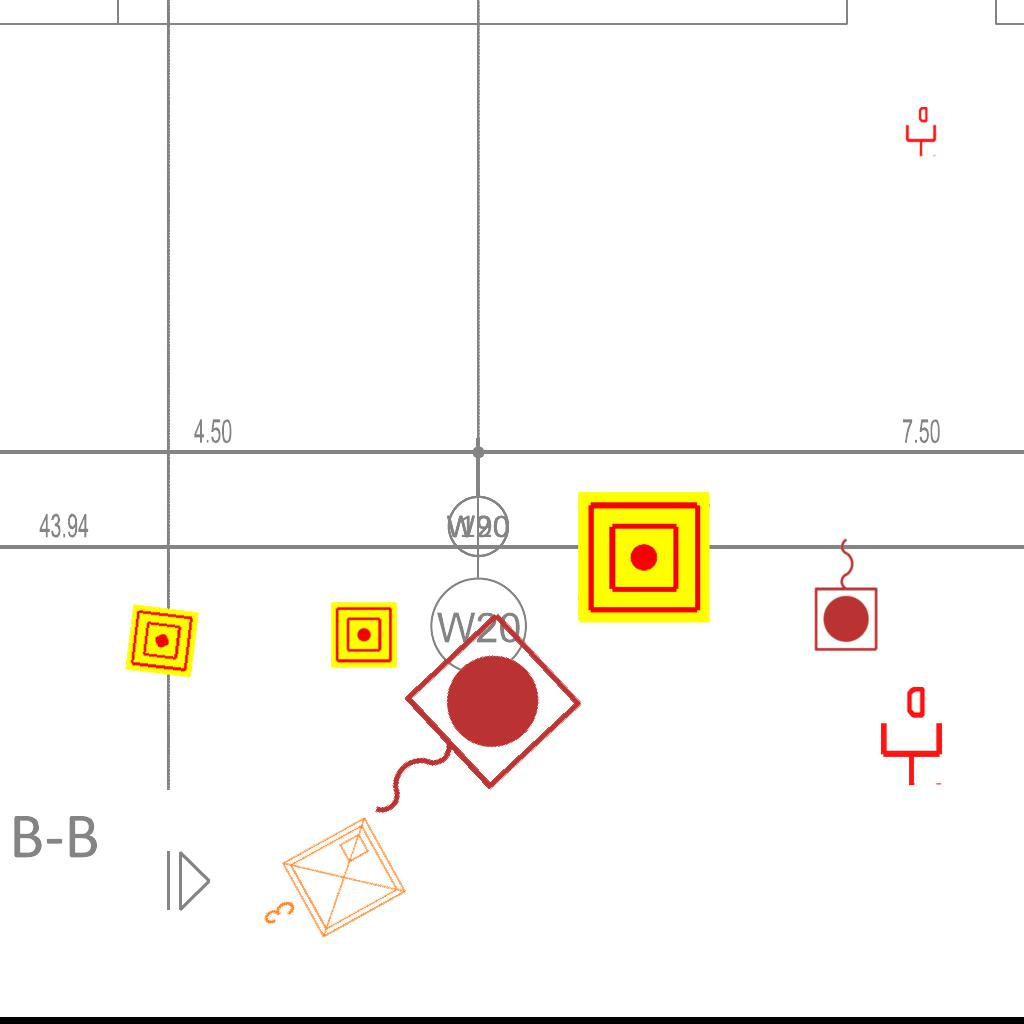Datenanschluss_einfach: (877, 687, 946, 787), (904, 107, 938, 157)
Einbaudownlights_LED_Konferenzraeume: (236, 807, 418, 971)
NAM-Nichtautomatischer_Melder: (578, 491, 710, 623), (125, 604, 199, 678), (331, 602, 397, 668)
Zugtaster: (316, 598, 594, 870), (811, 533, 883, 655)
